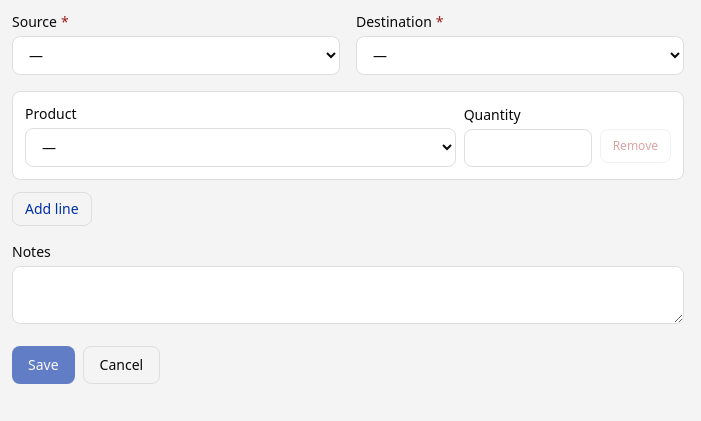
Test case: TransferForm › clears displayed availability once the source warehouse is cleared
Select "Main" in the dropdown labelled "Source" at point(176, 56), box [12,36,340,75]
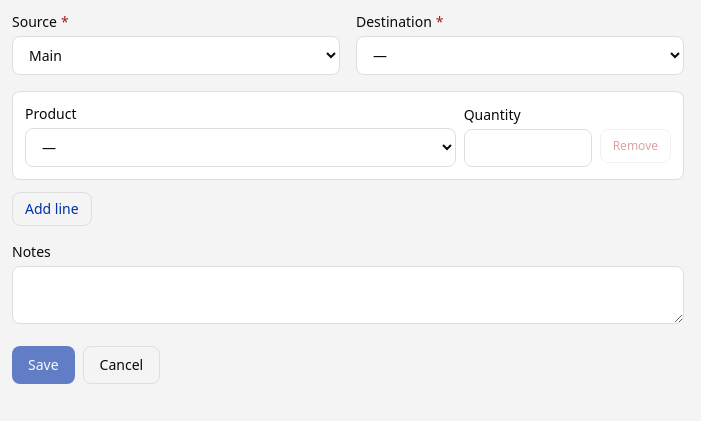
Select "Branch" in the dropdown labelled "Destination" at point(520, 56), box [356,36,684,75]
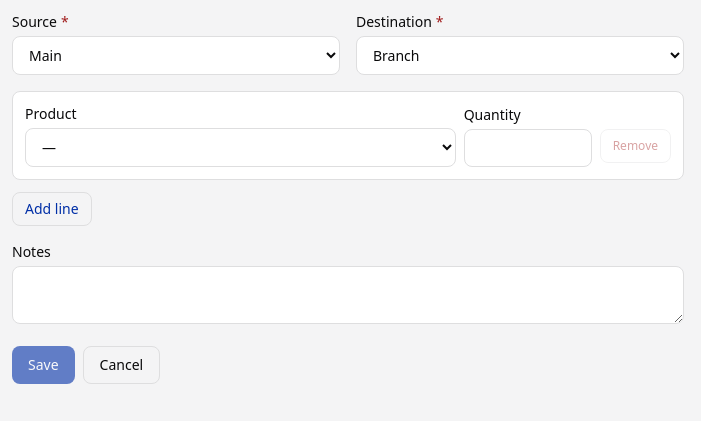
Select "Product 1" in the dropdown labelled "Product" at point(240, 148), box [25,128,456,167]
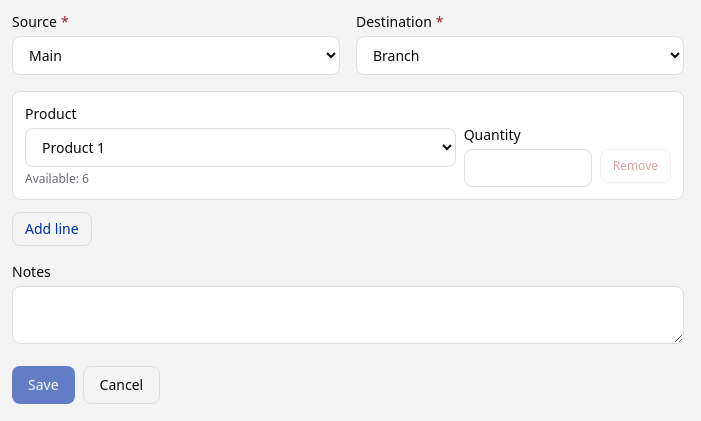
Now the text "Available: 6" is shown, box [25,170,89,187]
Select "—" in the dropdown labelled "Source" at point(176, 56), box [12,36,340,75]
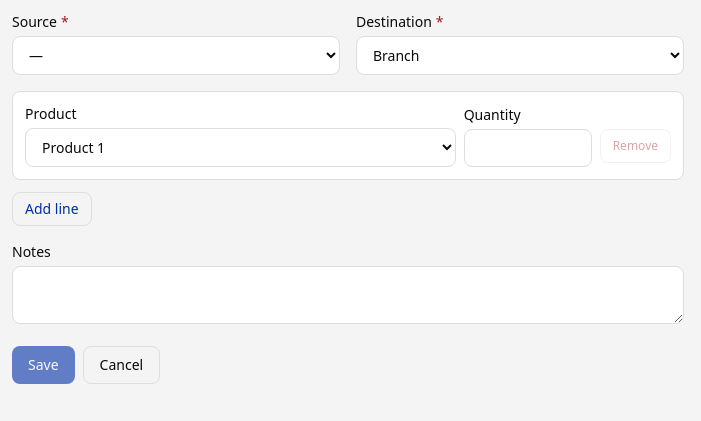
Now the text "Available: 6" is gone
